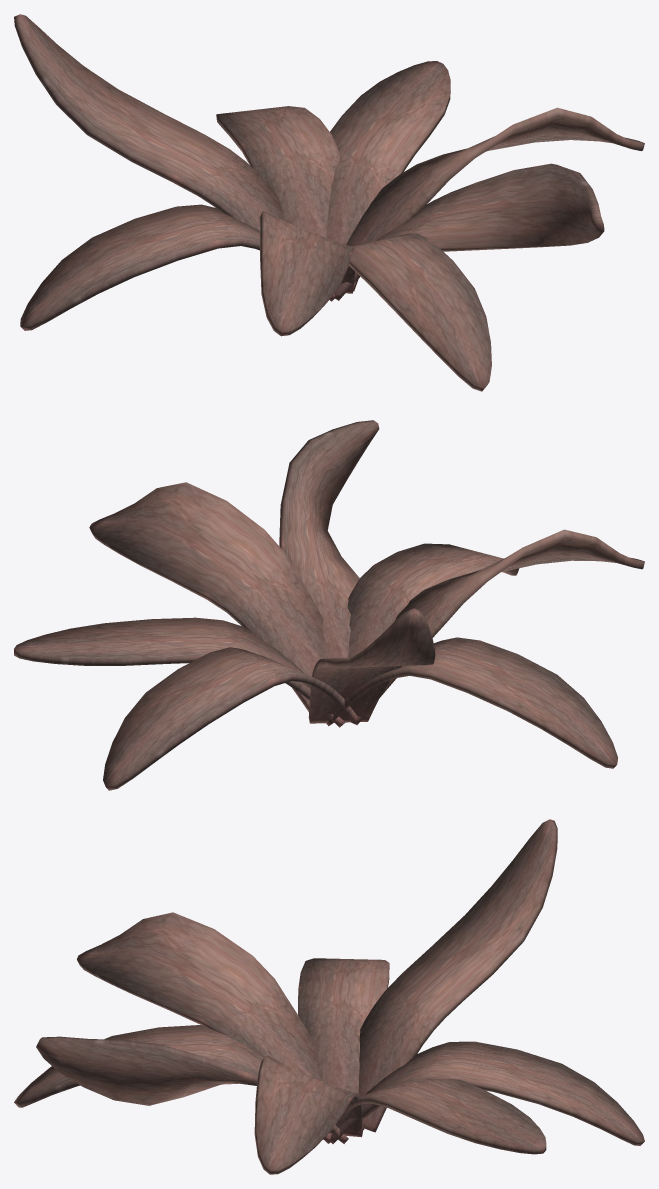
Rendered from calyx5_sb4_b.dae.
3 renders of one model, top to bottom at view 1: azimuth 30°, elevation 25°; view 2: azimuth 150°, elevation 25°; view 3: azimuth 270°, elevation 25°, orthographic. The views are drawn at different scales.
Parts seen in each view (by area): view 1: calyx2, calyx5, calyx1, calyx3_001, calyx3, calyx3_002, calyx4_001, calyx4; view 2: calyx4_001, calyx3_002, calyx5, calyx3, calyx1, calyx3_001, calyx2, calyx4; view 3: calyx4, calyx2, calyx3_002, calyx5, calyx3, calyx4_001, calyx1, calyx3_001.
Part boxes in pixels (x1,y1,x2,y2): calyx2: [14, 14, 284, 230]; calyx5: [346, 163, 604, 272]; calyx1: [326, 61, 450, 291]; calyx3_001: [348, 233, 491, 391]; calyx3: [20, 204, 334, 330]; calyx3_002: [216, 106, 339, 237]; calyx4_001: [334, 107, 644, 300]; calyx4: [259, 210, 354, 336]; calyx4_001: [89, 482, 326, 711]; calyx3_002: [103, 647, 357, 790]; calyx5: [279, 420, 379, 658]; calyx3: [326, 637, 617, 768]; calyx1: [14, 617, 344, 727]; calyx3_001: [347, 543, 519, 657]; calyx2: [308, 608, 435, 723]; calyx4: [351, 529, 644, 724]; calyx4: [77, 912, 320, 1079]; calyx2: [358, 819, 557, 1132]; calyx3_002: [330, 1041, 644, 1145]; calyx5: [36, 1036, 348, 1143]; calyx3: [298, 958, 389, 1130]; calyx4_001: [254, 1055, 362, 1174]; calyx1: [323, 1078, 546, 1154]; calyx3_001: [14, 1025, 331, 1143].
Bounding box in the file's own units: 0.088 × 0.0874 × 0.0345.
8 materials, 8 textured.
